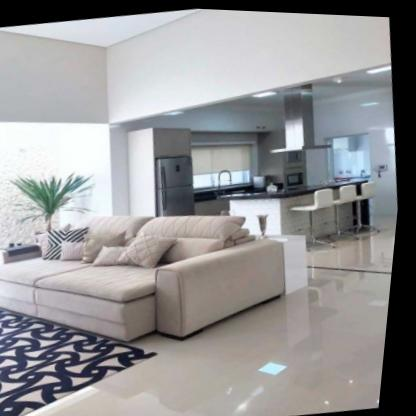Ceramic floor: (38, 249, 398, 416)
